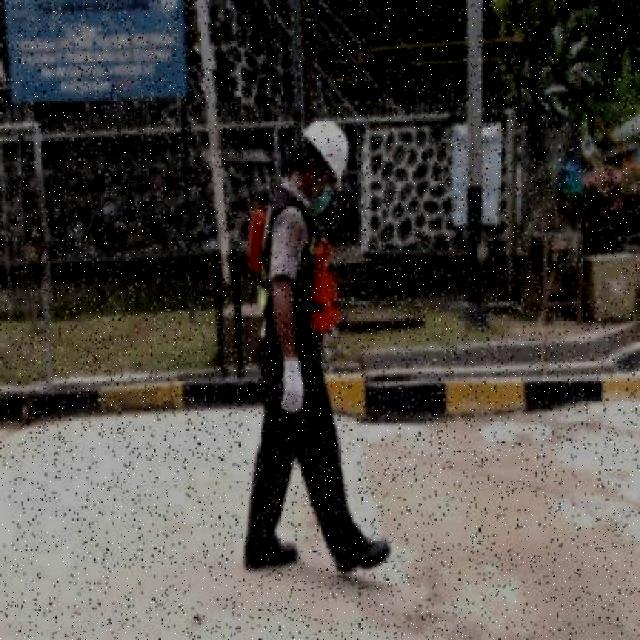Boots: (324, 522, 394, 578), (240, 516, 300, 572)
Gloves: (278, 358, 306, 418)
Helmet: (300, 114, 349, 190)
Mask: (240, 206, 342, 334)
